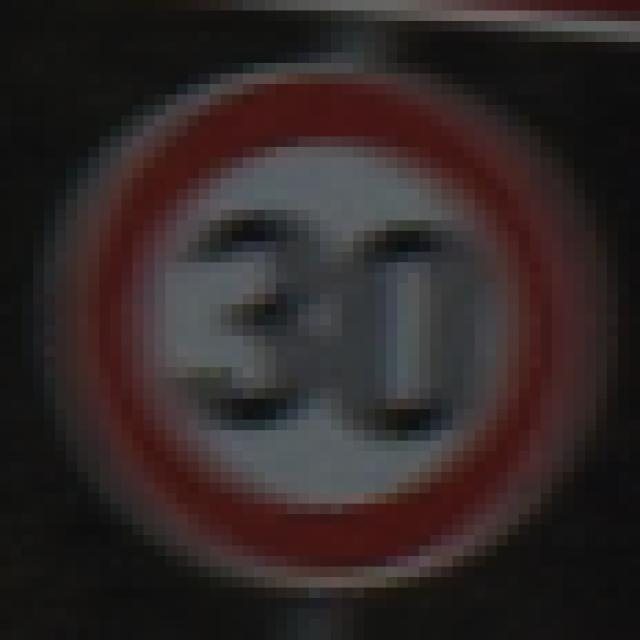Speed Limit -30-: (49, 48, 580, 582)
